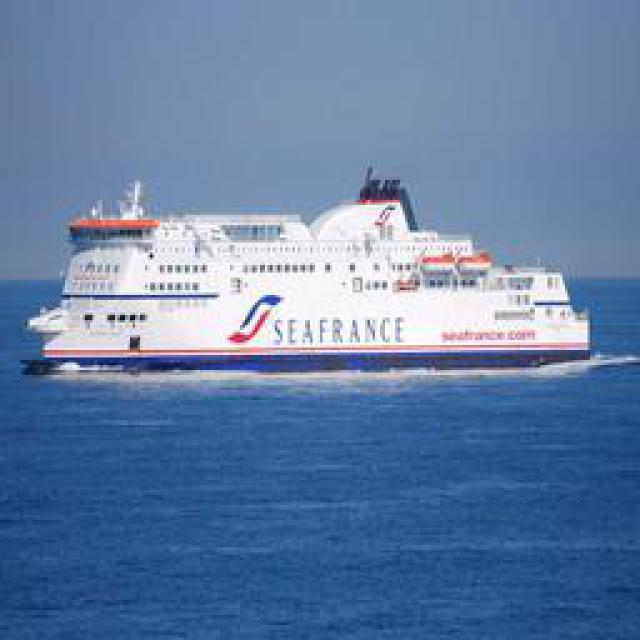Ship: (20, 166, 595, 381)
